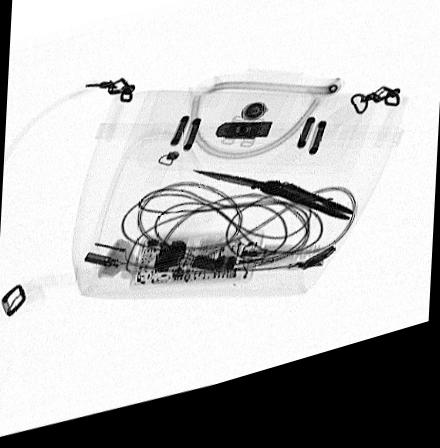Knife: (190, 178, 355, 242)
